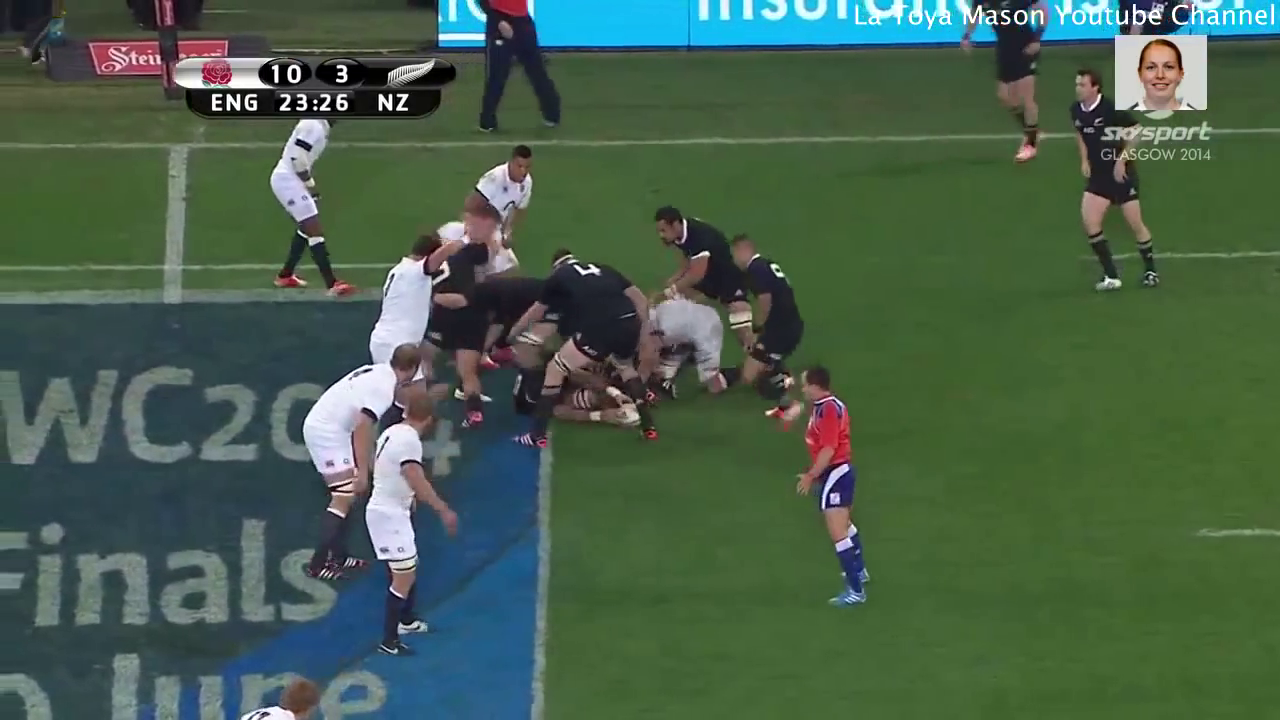player: (293, 335, 431, 582), (785, 357, 897, 621), (527, 247, 667, 451), (355, 385, 449, 667), (1064, 71, 1175, 298), (261, 118, 363, 300), (725, 233, 810, 415), (366, 226, 451, 367), (645, 198, 749, 308), (458, 136, 534, 273), (645, 298, 726, 397)
